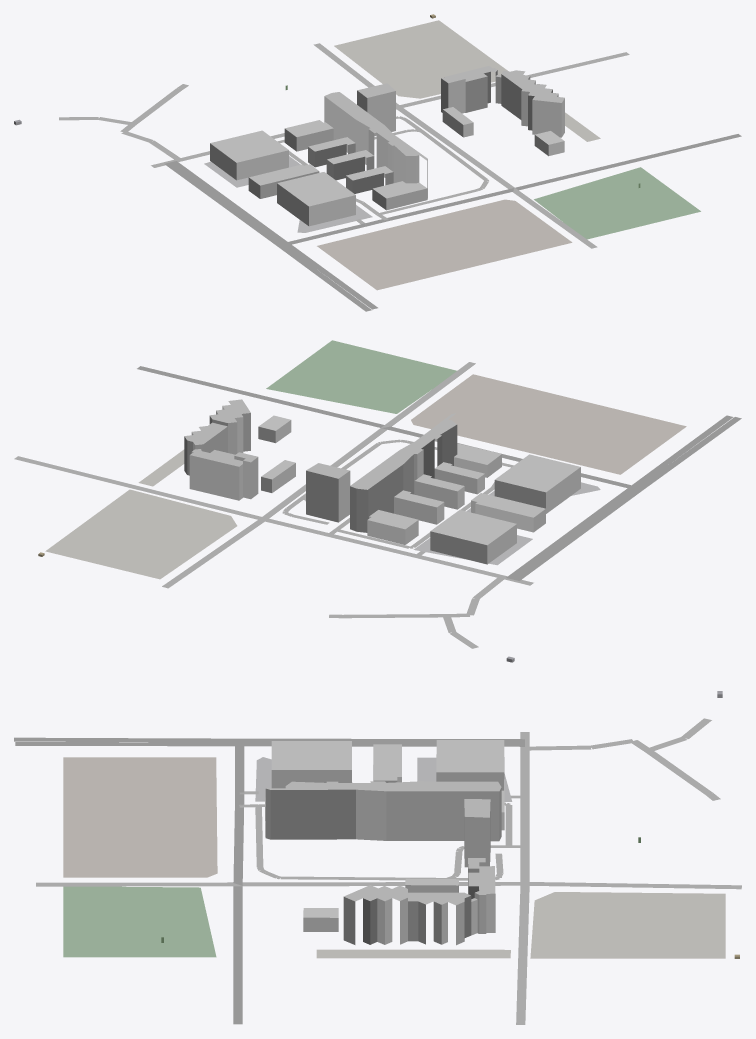
3 renders of one model, top to bottom at view 1: azimuth 30°, elevation 25°; view 2: azimuth 150°, elevation 25°; view 3: azimuth 270°, elevation 25°, orthographic. The views are drawn at different scales.
Size of the model in its own units: 587 by 43.15 by 550.
